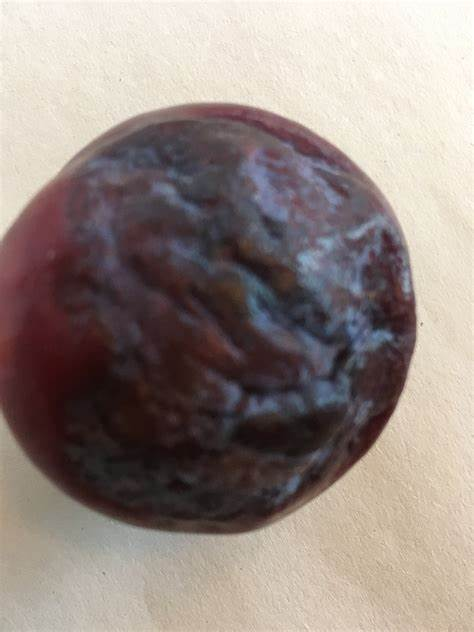plum_C: (1, 104, 417, 536)
